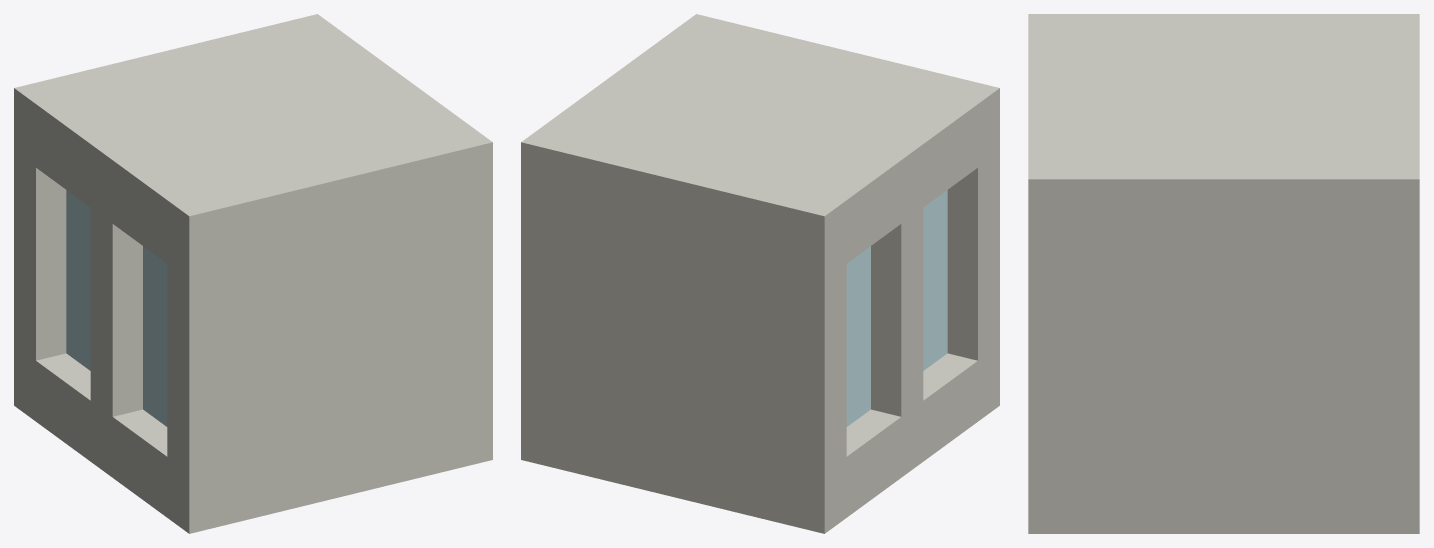
Rendered from Building Story 13.fbx.
3 views of the same model, side by side, from view 1: azimuth 30°, elevation 25°; view 2: azimuth 150°, elevation 25°; view 3: azimuth 270°, elevation 25° (orthographic). The views are drawn at different scales.
Parts seen in each view (by area): view 1: Building Story 13; view 2: Building Story 13; view 3: Building Story 13.
Boxes of the visible parts, left/top/right/bottom form: Building Story 13: left=14, top=14, right=492, bottom=533; Building Story 13: left=521, top=14, right=999, bottom=533; Building Story 13: left=1028, top=14, right=1419, bottom=533.
Size of the model in its own units: 1 by 1 by 1.
